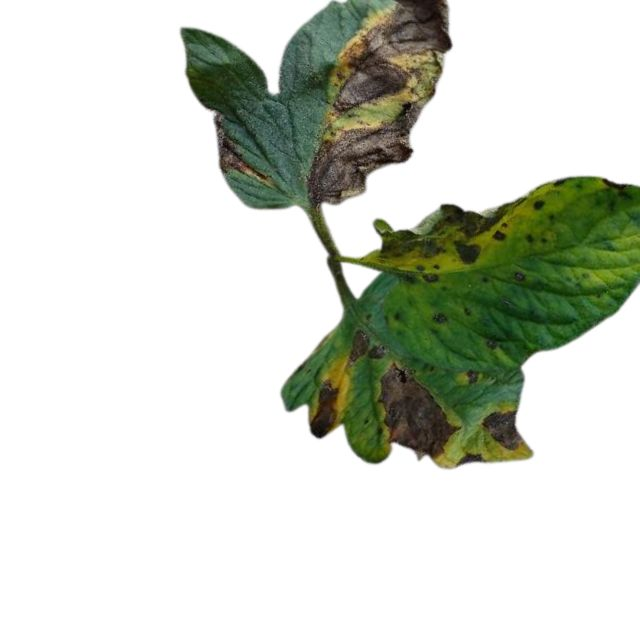Early_blight: (307, 1, 453, 202), (378, 199, 523, 266), (381, 363, 462, 462), (214, 111, 272, 187), (310, 378, 340, 440), (479, 407, 521, 451), (349, 328, 388, 362), (455, 452, 486, 466), (602, 177, 629, 192), (422, 269, 439, 285), (467, 367, 481, 383), (530, 197, 545, 211), (432, 309, 447, 323), (512, 270, 528, 280)
